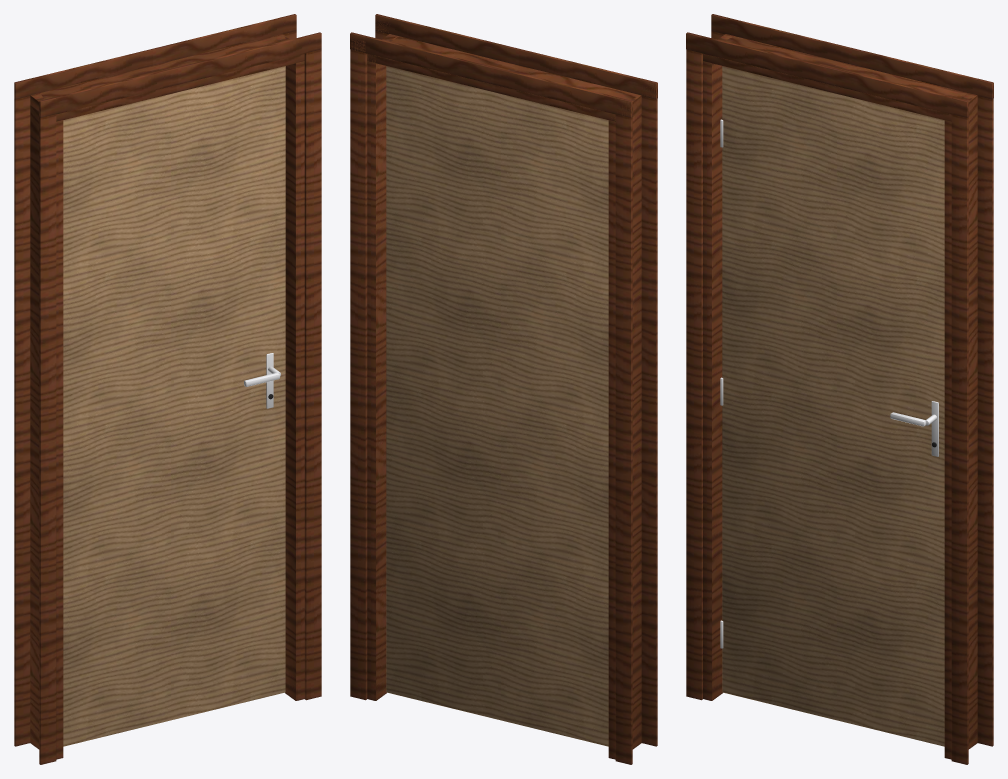
The model's file is ESQ-PMD-002_lod1.glb.
The picture shows the model from 3 angles, left to right: view 1: azimuth 30°, elevation 25°; view 2: azimuth 150°, elevation 25°; view 3: azimuth 330°, elevation 25°; orthographic projection.
Visible parts, largest first — view 1: ESQ-PMD-002_folha, ESQ-PMD-002_batente_d, ESQ-PMD-002_guarnicao_e-1, ESQ-PMD-002_guarnicao_d-1, ESQ-PMD-002_batente_e, ESQ-PMD-002_guarnicao_e1, ESQ-PMD-002_guarnicao_c-1, ESQ-PMD-002_guarnicao_c1, ESQ-PMD-002_batente_c; view 2: ESQ-PMD-002_folha, ESQ-PMD-002_batente_d, ESQ-PMD-002_guarnicao_d1, ESQ-PMD-002_guarnicao_e1, ESQ-PMD-002_batente_e, ESQ-PMD-002_guarnicao_e-1, ESQ-PMD-002_guarnicao_c1, ESQ-PMD-002_guarnicao_c-1, ESQ-PMD-002_batente_c; view 3: ESQ-PMD-002_folha, ESQ-PMD-002_batente_e, ESQ-PMD-002_guarnicao_d-1, ESQ-PMD-002_batente_d, ESQ-PMD-002_guarnicao_d1, ESQ-PMD-002_guarnicao_e-1, ESQ-PMD-002_guarnicao_c-1, ESQ-PMD-002_guarnicao_c1, ESQ-PMD-002_batente_c.
Boxes of the visible parts, x1=… form: ESQ-PMD-002_folha: x1=63, y1=66, x2=285, y2=746; ESQ-PMD-002_batente_d: x1=273, y1=34, x2=304, y2=700; ESQ-PMD-002_guarnicao_e-1: x1=39, y1=98, x2=56, y2=764; ESQ-PMD-002_guarnicao_d-1: x1=304, y1=33, x2=321, y2=700; ESQ-PMD-002_batente_e: x1=30, y1=93, x2=63, y2=759; ESQ-PMD-002_guarnicao_e1: x1=14, y1=79, x2=30, y2=746; ESQ-PMD-002_guarnicao_c-1: x1=39, y1=32, x2=321, y2=117; ESQ-PMD-002_guarnicao_c1: x1=14, y1=14, x2=296, y2=99; ESQ-PMD-002_batente_c: x1=30, y1=35, x2=304, y2=121; ESQ-PMD-002_folha: x1=386, y1=66, x2=608, y2=746; ESQ-PMD-002_batente_d: x1=367, y1=34, x2=397, y2=700; ESQ-PMD-002_guarnicao_d1: x1=350, y1=32, x2=367, y2=700; ESQ-PMD-002_guarnicao_e1: x1=615, y1=98, x2=632, y2=764; ESQ-PMD-002_batente_e: x1=608, y1=95, x2=641, y2=759; ESQ-PMD-002_guarnicao_e-1: x1=641, y1=79, x2=657, y2=746; ESQ-PMD-002_guarnicao_c1: x1=350, y1=32, x2=632, y2=117; ESQ-PMD-002_guarnicao_c-1: x1=375, y1=14, x2=657, y2=99; ESQ-PMD-002_batente_c: x1=367, y1=34, x2=640, y2=121; ESQ-PMD-002_folha: x1=722, y1=66, x2=944, y2=746; ESQ-PMD-002_batente_e: x1=703, y1=34, x2=734, y2=700; ESQ-PMD-002_guarnicao_d-1: x1=951, y1=98, x2=968, y2=764; ESQ-PMD-002_batente_d: x1=944, y1=93, x2=977, y2=759; ESQ-PMD-002_guarnicao_d1: x1=977, y1=79, x2=993, y2=746; ESQ-PMD-002_guarnicao_e-1: x1=686, y1=32, x2=702, y2=700; ESQ-PMD-002_guarnicao_c-1: x1=686, y1=32, x2=968, y2=117; ESQ-PMD-002_guarnicao_c1: x1=711, y1=14, x2=993, y2=99; ESQ-PMD-002_batente_c: x1=703, y1=36, x2=975, y2=121.
Size of the model in its own units: 0.97 by 2.19 by 0.1655.
Materials: 4 (2 with a texture image).
